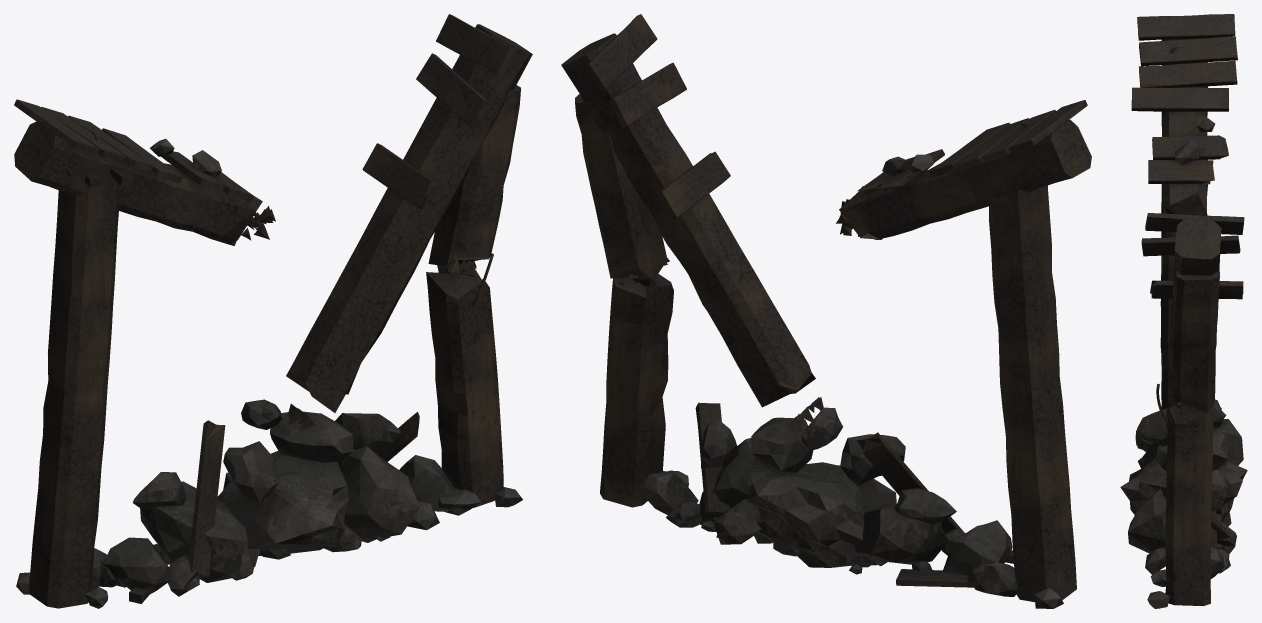
Rendered from b4p_timber_set_broken.glb.
3 renders of one model, left to right at view 1: azimuth 30°, elevation 25°; view 2: azimuth 150°, elevation 25°; view 3: azimuth 270°, elevation 25°, orthographic. The views are drawn at different scales.
Visible parts, largest first — view 1: b4p_timber_set_broken; view 2: b4p_timber_set_broken; view 3: b4p_timber_set_broken.
Boxes of the visible parts, bbox=[...] form: b4p_timber_set_broken: bbox=[14, 14, 532, 608]; b4p_timber_set_broken: bbox=[561, 14, 1091, 608]; b4p_timber_set_broken: bbox=[1120, 14, 1247, 608].
Bounding box in the file's own units: 2.65 × 2.47 × 0.6794.
1 material, 1 textured.
